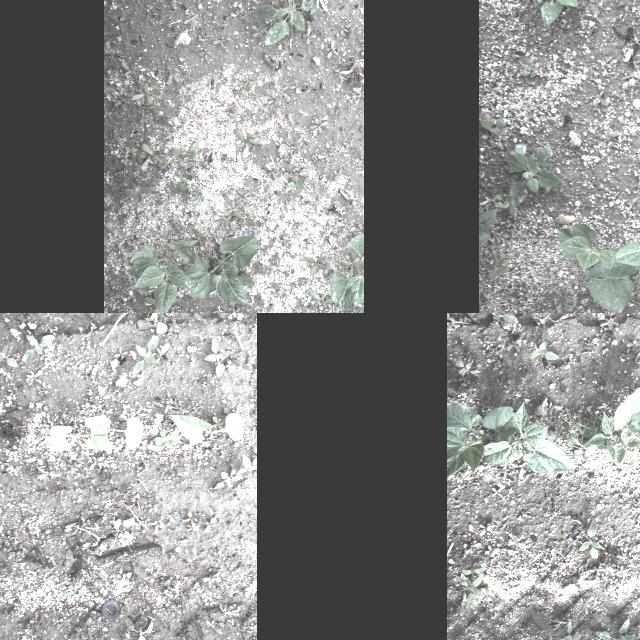crop: (482, 401, 574, 473), (583, 204, 640, 313), (183, 232, 261, 310), (447, 403, 521, 477), (130, 239, 199, 313), (579, 382, 640, 464), (330, 226, 364, 309), (555, 223, 613, 271), (44, 415, 114, 451), (169, 413, 245, 443), (102, 417, 144, 448), (152, 413, 180, 447), (478, 206, 498, 248)
weed: (504, 143, 560, 207), (254, 0, 323, 44), (536, 0, 594, 31), (132, 334, 160, 376), (170, 166, 203, 200), (204, 339, 232, 377), (578, 519, 604, 559), (556, 418, 596, 444), (134, 139, 166, 171), (594, 619, 640, 640), (234, 128, 264, 158), (460, 574, 486, 608), (22, 334, 54, 361), (556, 434, 586, 460), (141, 294, 181, 313), (120, 182, 158, 200), (178, 141, 202, 169), (125, 617, 154, 640), (132, 82, 160, 105), (213, 468, 243, 488), (528, 340, 558, 360), (492, 195, 518, 218), (308, 290, 337, 310), (284, 168, 310, 190), (488, 252, 508, 280), (306, 252, 328, 276), (564, 619, 586, 640), (236, 454, 256, 476), (482, 468, 504, 488), (0, 345, 19, 368), (454, 358, 480, 374), (223, 200, 243, 220), (482, 118, 504, 136), (119, 62, 138, 82), (272, 84, 292, 102), (246, 73, 266, 91), (155, 343, 171, 365), (227, 274, 255, 286), (618, 71, 640, 86), (309, 117, 329, 133), (237, 212, 257, 228), (170, 147, 196, 159), (542, 303, 573, 313), (234, 190, 252, 207), (164, 65, 180, 83), (290, 78, 308, 94), (232, 82, 250, 98), (589, 93, 609, 107), (325, 40, 339, 59), (252, 23, 266, 42), (493, 313, 517, 324), (26, 370, 42, 386), (206, 618, 222, 634), (506, 338, 522, 354), (212, 35, 230, 49), (119, 92, 133, 110), (263, 162, 277, 180), (222, 214, 236, 232), (591, 3, 603, 24), (230, 110, 250, 122), (521, 56, 533, 76), (460, 566, 484, 576), (464, 542, 481, 556), (195, 229, 208, 247), (41, 313, 64, 323), (160, 158, 176, 172), (76, 510, 92, 524), (512, 534, 526, 550), (184, 511, 196, 529), (351, 86, 364, 102), (223, 297, 236, 313), (624, 195, 636, 212), (144, 101, 162, 112), (150, 520, 164, 534), (516, 374, 530, 388), (183, 12, 199, 24), (266, 94, 282, 106), (212, 416, 224, 432), (90, 456, 104, 469), (221, 211, 239, 221), (518, 461, 528, 479), (458, 599, 468, 617), (137, 83, 145, 105), (203, 574, 220, 584), (204, 518, 216, 532), (220, 603, 232, 617), (173, 218, 183, 234), (104, 201, 114, 217), (24, 456, 44, 464), (632, 590, 640, 610), (580, 598, 590, 614), (305, 27, 313, 45), (200, 47, 212, 59), (619, 0, 631, 12), (115, 347, 127, 359), (6, 385, 18, 397), (600, 320, 618, 328), (627, 339, 640, 350), (292, 140, 302, 154), (542, 403, 556, 413), (548, 428, 562, 438), (478, 524, 492, 534), (129, 148, 137, 164), (269, 108, 279, 120), (262, 182, 272, 194), (251, 142, 263, 152), (332, 169, 342, 181), (148, 287, 160, 297), (81, 556, 93, 566), (241, 76, 255, 84), (103, 223, 113, 234), (253, 295, 264, 305), (279, 237, 291, 246), (277, 41, 287, 51), (138, 114, 148, 124), (293, 222, 303, 232), (46, 556, 56, 566), (492, 487, 502, 497), (166, 0, 180, 7), (105, 54, 117, 62), (216, 100, 228, 108), (246, 132, 258, 140), (342, 141, 354, 149), (328, 148, 337, 158), (344, 218, 351, 230), (310, 156, 320, 164), (239, 270, 249, 278), (302, 305, 312, 313), (171, 606, 181, 614), (81, 341, 91, 349), (38, 472, 48, 480), (234, 484, 242, 494), (103, 308, 118, 313), (224, 106, 233, 114), (252, 447, 256, 465), (361, 43, 364, 63), (122, 161, 132, 167), (34, 386, 44, 392), (67, 585, 77, 591), (0, 460, 10, 465), (607, 567, 615, 573), (350, 148, 360, 152), (104, 279, 108, 287), (112, 79, 116, 85)
